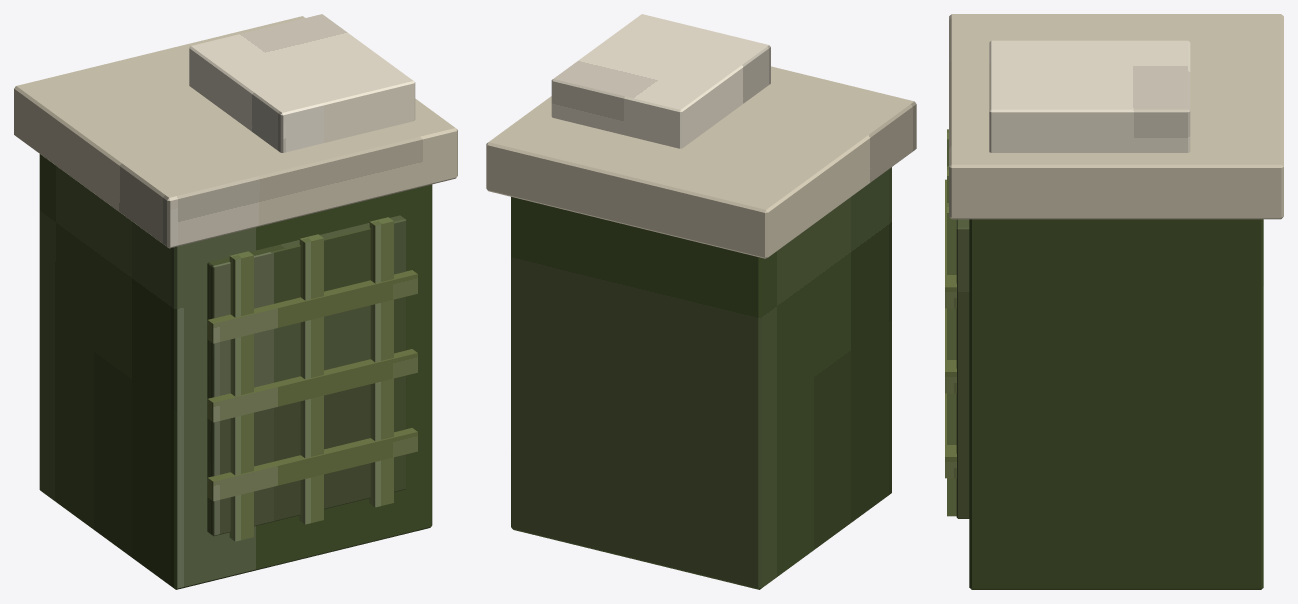
The model's file is laundry_hamper_olive.glb.
3 renders of one model, left to right at view 1: azimuth 30°, elevation 25°; view 2: azimuth 150°, elevation 25°; view 3: azimuth 270°, elevation 25°, orthographic. The views are drawn at different scales.
Parts seen in each view (by area): view 1: HamperBody, HamperRim, HamperInset, FoldedCloth, HamperWeaveV_-0.13, HamperWeaveV_0.13, HamperWeaveV_0.0, HamperWeaveH_0.48, HamperWeaveH_0.34, HamperWeaveH_0.2; view 2: HamperBody, HamperRim, FoldedCloth; view 3: HamperBody, HamperRim, FoldedCloth, HamperInset, HamperWeaveV_0.13, HamperWeaveH_0.48, HamperWeaveH_0.2, HamperWeaveH_0.34.
Boxes of the visible parts, bbox=[...] form: HamperBody: bbox=[39, 154, 432, 589]; HamperRim: bbox=[14, 16, 457, 248]; HamperInset: bbox=[207, 215, 406, 536]; FoldedCloth: bbox=[189, 14, 415, 152]; HamperWeaveV_-0.13: bbox=[229, 251, 253, 541]; HamperWeaveV_0.13: bbox=[369, 217, 393, 507]; HamperWeaveV_0.0: bbox=[299, 234, 323, 524]; HamperWeaveH_0.48: bbox=[207, 270, 417, 343]; HamperWeaveH_0.34: bbox=[207, 349, 417, 422]; HamperWeaveH_0.2: bbox=[207, 428, 417, 501]; HamperBody: bbox=[511, 167, 891, 589]; HamperRim: bbox=[486, 66, 916, 258]; FoldedCloth: bbox=[551, 14, 770, 148]; HamperBody: bbox=[969, 219, 1263, 589]; HamperRim: bbox=[949, 14, 1283, 219]; FoldedCloth: bbox=[989, 40, 1190, 152]; HamperInset: bbox=[956, 219, 969, 518]; HamperWeaveV_0.13: bbox=[947, 203, 957, 516]; HamperWeaveH_0.48: bbox=[945, 179, 956, 308]; HamperWeaveH_0.2: bbox=[945, 393, 956, 478]; HamperWeaveH_0.34: bbox=[945, 308, 956, 393].
Bounding box in the file's own units: 0.54 × 0.785 × 0.506.
1 material, 1 textured.
